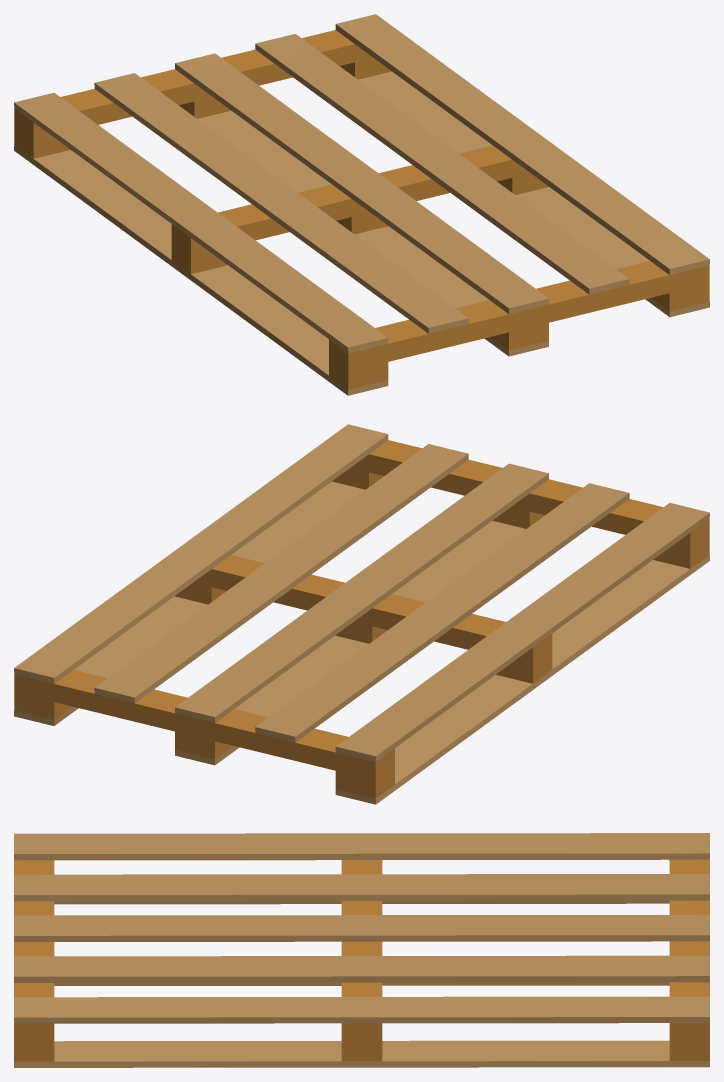
File: Med Single Pallet Light.fbx
3 views of the same model, one above another, from view 1: azimuth 30°, elevation 25°; view 2: azimuth 150°, elevation 25°; view 3: azimuth 270°, elevation 25° (orthographic). The views are drawn at different scales.
Visible parts, largest first — view 1: Med Single Pallet Light; view 2: Med Single Pallet Light; view 3: Med Single Pallet Light.
Boxes of the visible parts, x1,y1,x2,y2 form: Med Single Pallet Light: [14, 14, 709, 395]; Med Single Pallet Light: [14, 424, 709, 804]; Med Single Pallet Light: [14, 833, 709, 1067].
Size of the model in its own units: 44.58 by 552 by 345.
1 material, 1 textured.
